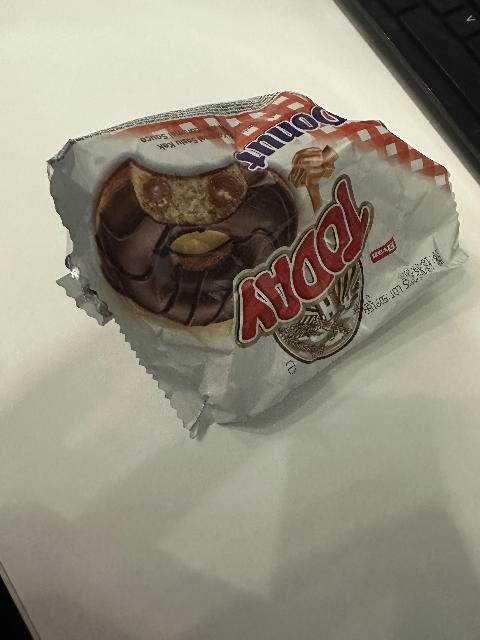Plastik: (44, 97, 480, 422)
